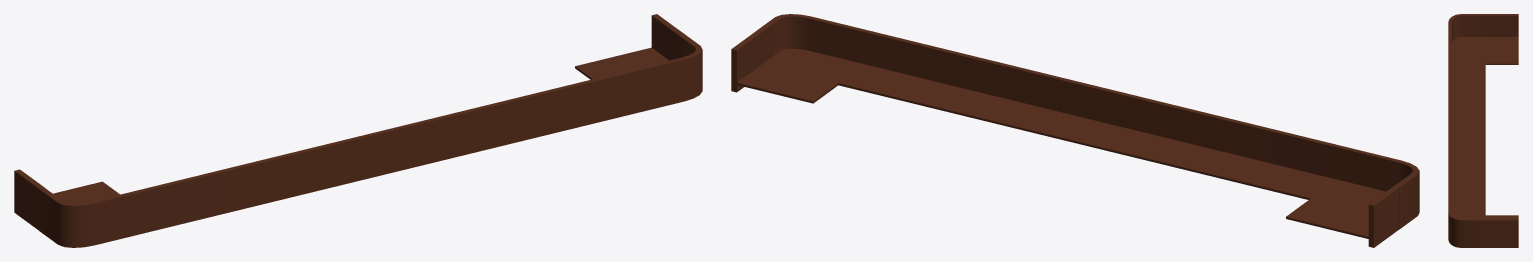
Rendered from Bar_From_dusk_till_dawn.fbx.
3 renders of one model, left to right at view 1: azimuth 30°, elevation 25°; view 2: azimuth 150°, elevation 25°; view 3: azimuth 270°, elevation 25°, orthographic. The views are drawn at different scales.
Parts seen in each view (by area): view 1: Cube.016; view 2: Cube.016; view 3: Cube.016.
Boxes of the visible parts, x1,y1,x2,y2 form: Cube.016: [14, 14, 702, 247]; Cube.016: [731, 14, 1419, 247]; Cube.016: [1448, 14, 1518, 247].
Bounding box in the file's own units: 369 × 23.08 × 53.23.
